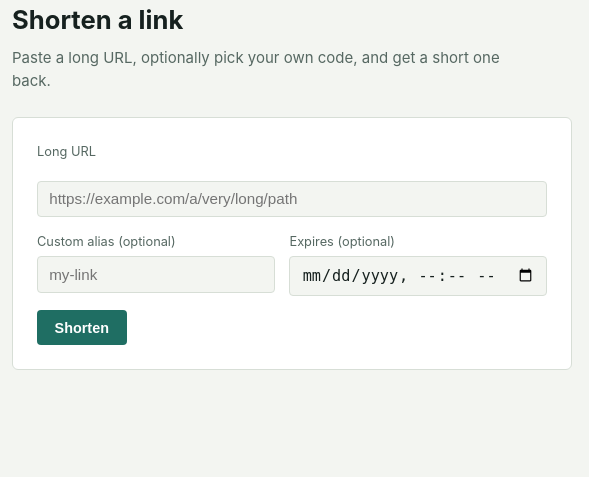
Test: CreateLinkPage › shows the server error message when the alias is taken
The width and height of the screenshot is (589, 477).
Step 1. Type "https://example.com" into the field labelled "Long URL" → (292, 199), box [37,181,547,217]
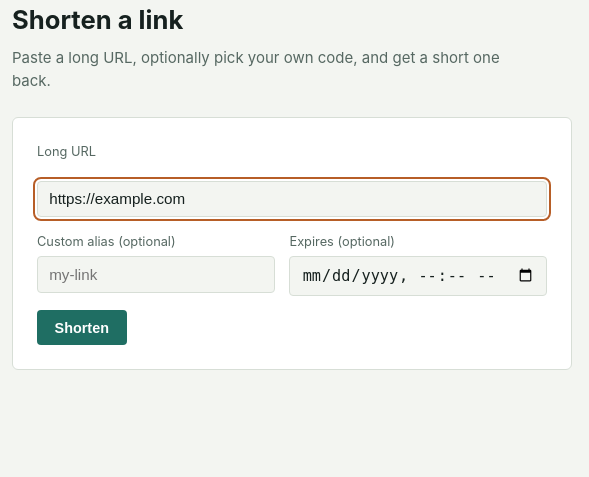
Step 2. Type "taken" into the field labelled "Custom alias (optional)" → (156, 274), box [37,256,275,293]
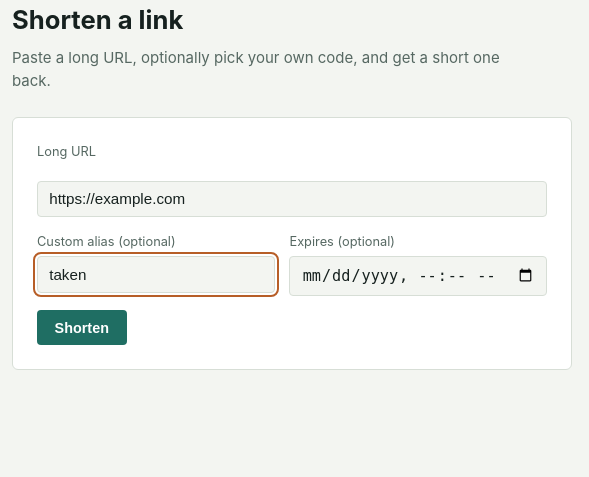
Step 3. Click the button "Shorten" → (82, 328), box [37,310,127,345]
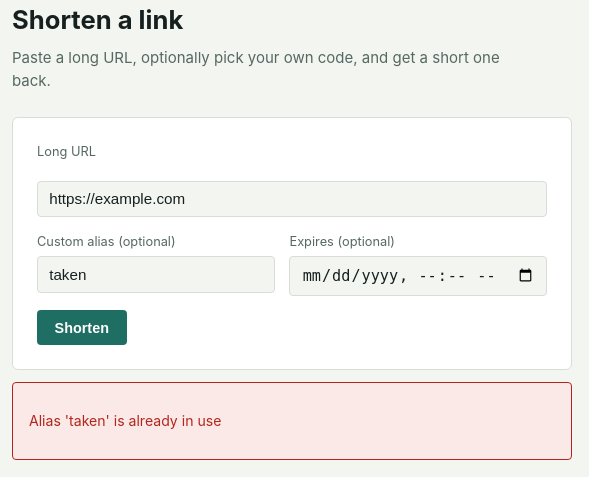
expect the message reads "Alias 'taken' is already in use": met, box [29,412,221,429]
